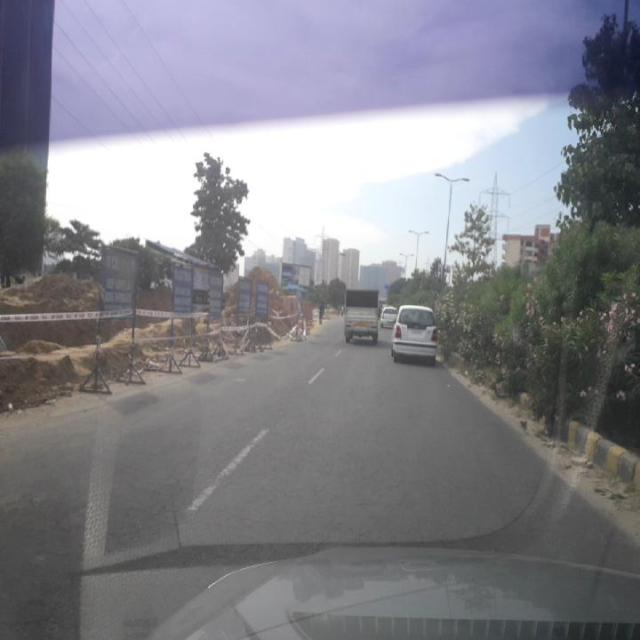crack: (10, 415, 224, 629), (233, 416, 554, 554)
